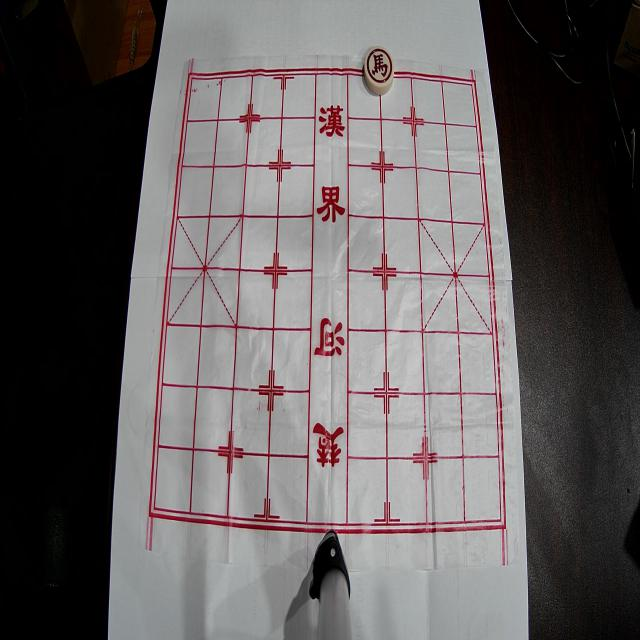red-horse: (364, 46, 394, 94)
